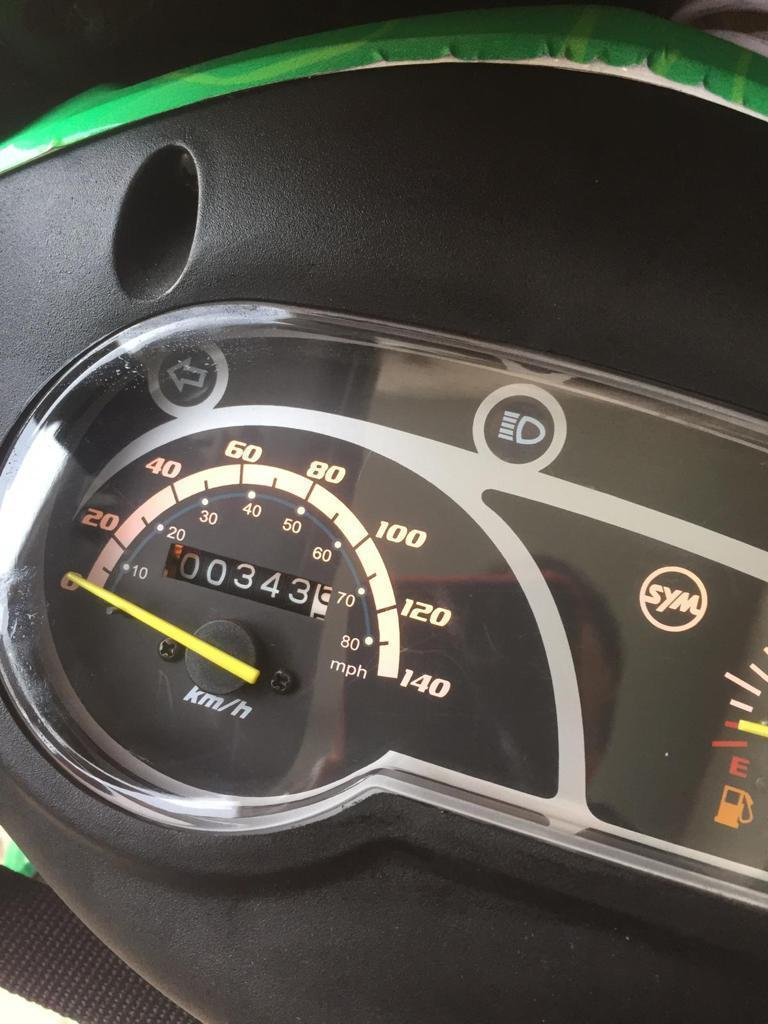0: (204, 557, 228, 587), (178, 551, 200, 580), (322, 548, 331, 562)
3: (287, 575, 311, 605), (233, 561, 256, 589)
4: (258, 570, 282, 599)
6: (317, 583, 332, 606), (311, 546, 322, 560)
odometer: (156, 540, 334, 624)
